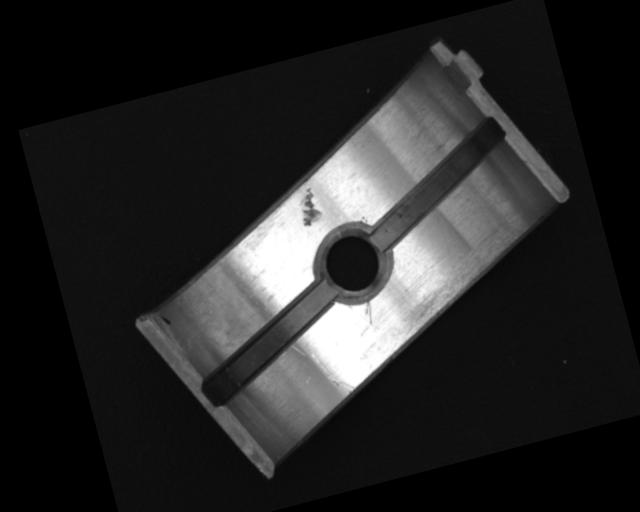blot: (155, 310, 173, 328)
bruise: (294, 186, 322, 228)
gap: (348, 117, 523, 253), (186, 279, 355, 406)
hole: (307, 217, 398, 307)
nick: (307, 342, 355, 399), (361, 300, 376, 326)
scratch: (385, 224, 537, 337)
